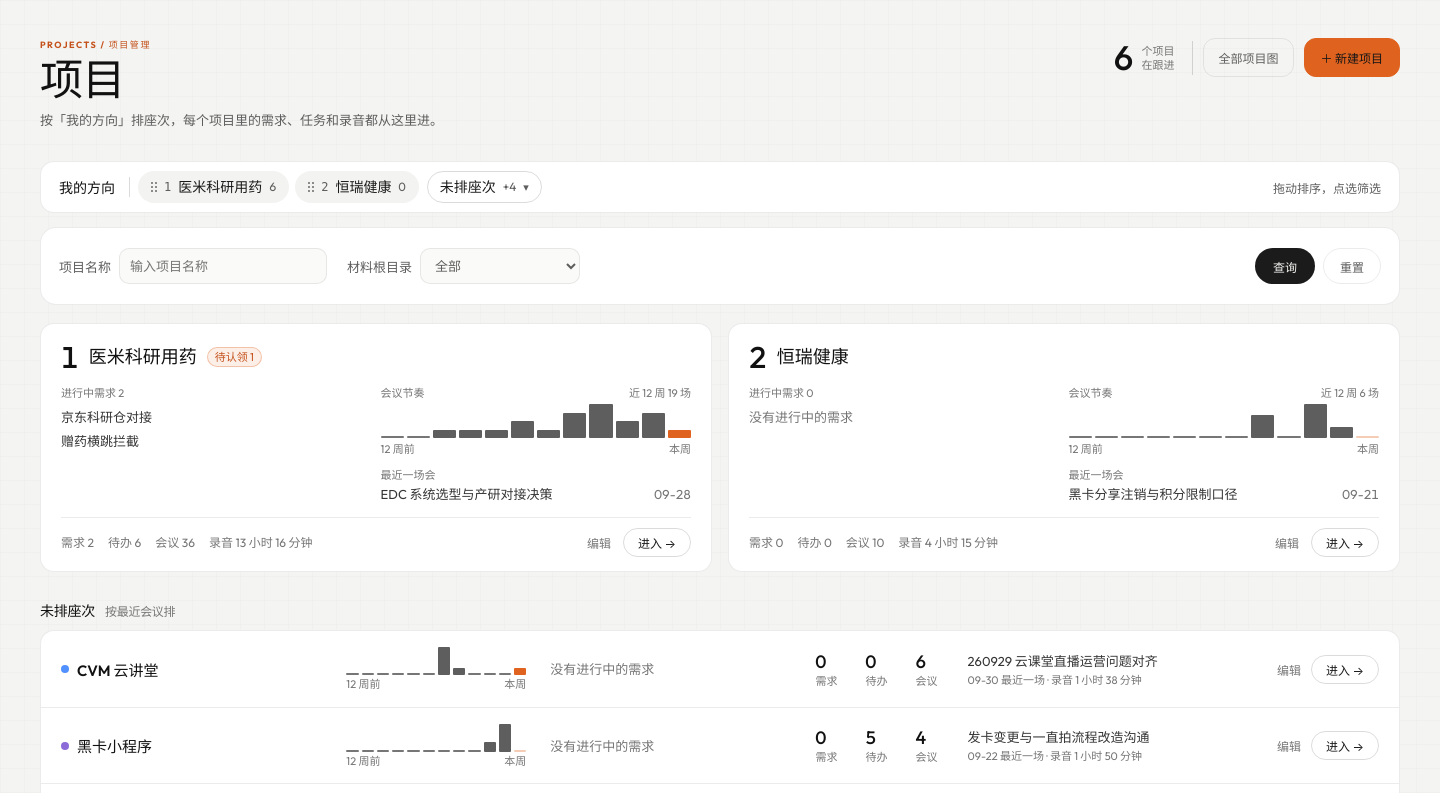
Test case: ProjectsPage 我的方向 › 座次没保存成功：提示重拖，并刷新项目列表
The image size is (1440, 793).
Step 1. Click the button "未排座次 +4 ▾" → {"x": 484, "y": 187}, box [427,171,542,203]
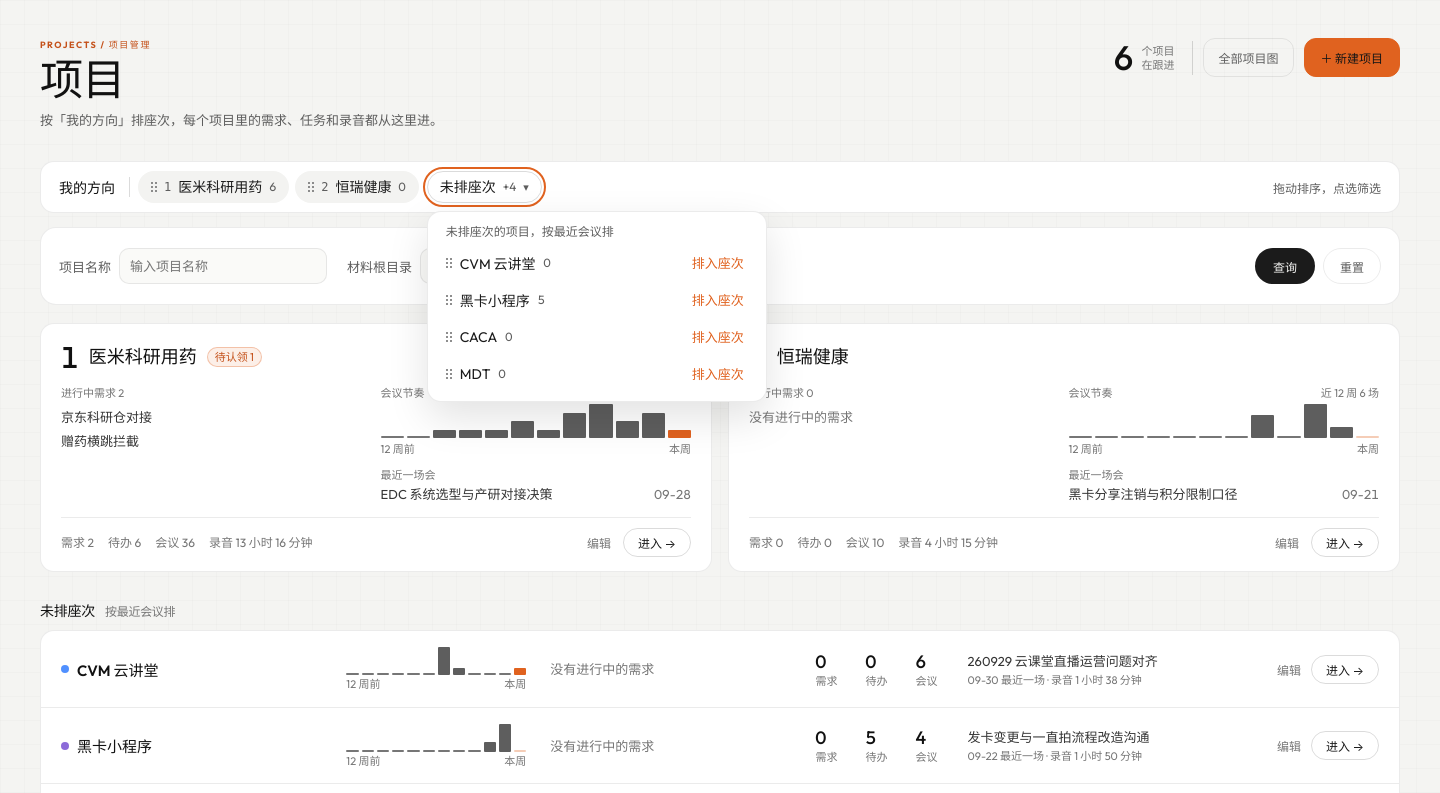
Step 2. Click the 4th button "排入座次" → {"x": 718, "y": 374}, box [688,362,748,385]
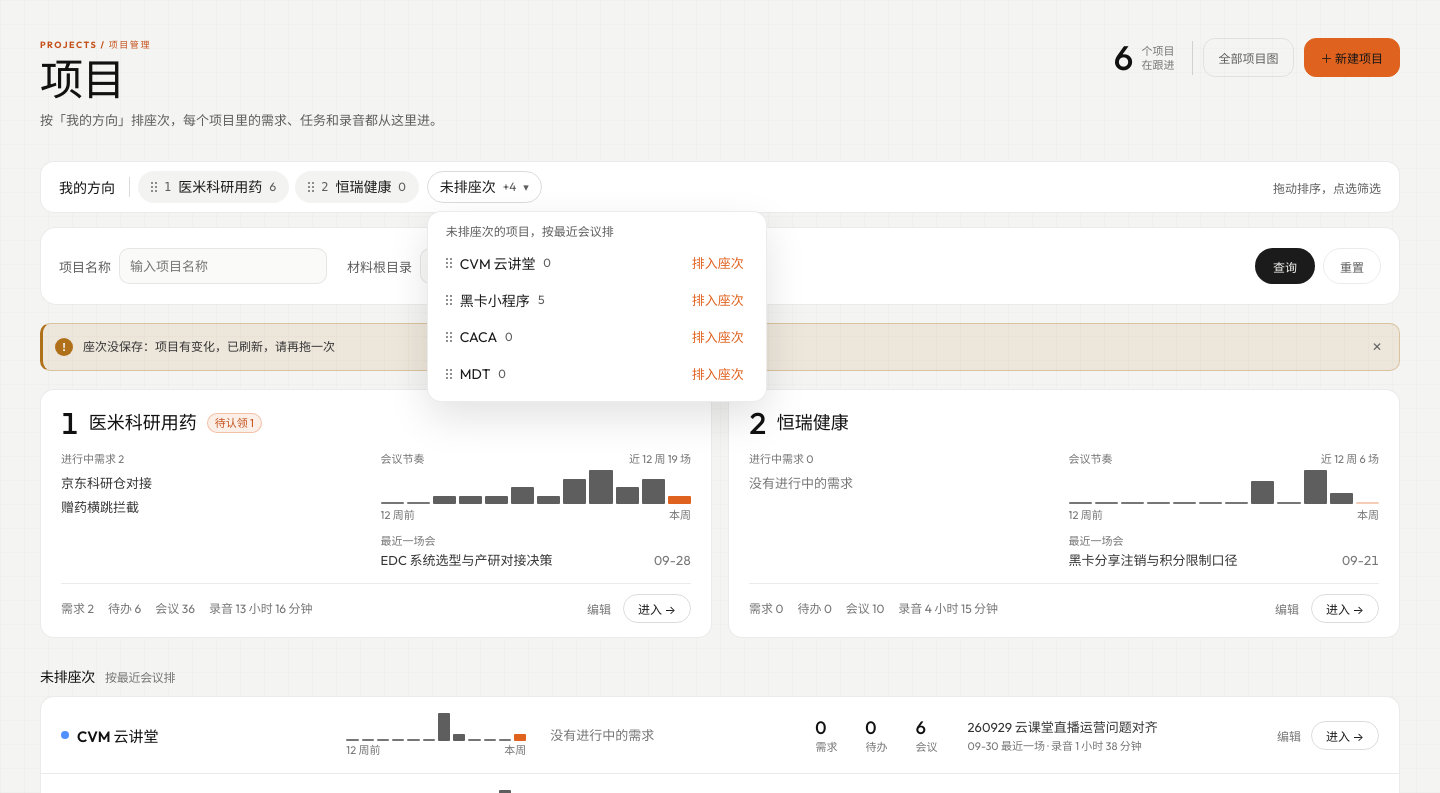
Expected: the text "座次没保存：项目有变化，已刷新，请再拖一次" is shown, [83,339,335,354]
